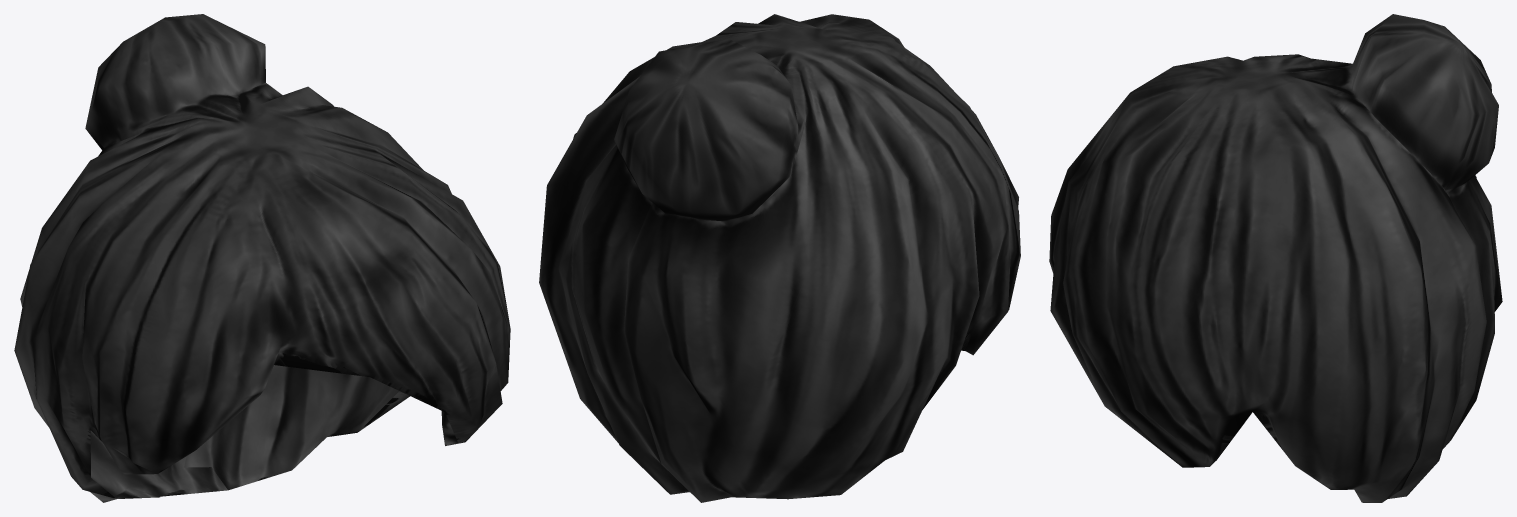
The model's file is AF_M_hair_G_16.fbx.
3 views of the same model, side by side, from view 1: azimuth 30°, elevation 25°; view 2: azimuth 150°, elevation 25°; view 3: azimuth 270°, elevation 25° (orthographic). The views are drawn at different scales.
Parts seen in each view (by area): view 1: AF_M_hair_G_16; view 2: AF_M_hair_G_16; view 3: AF_M_hair_G_16.
Boxes of the visible parts, x1,y1,x2,y2 form: AF_M_hair_G_16: [14, 14, 510, 502]; AF_M_hair_G_16: [539, 14, 1020, 502]; AF_M_hair_G_16: [1049, 14, 1502, 502].
Bounding box in the file's own units: 745 × 829 × 762.
